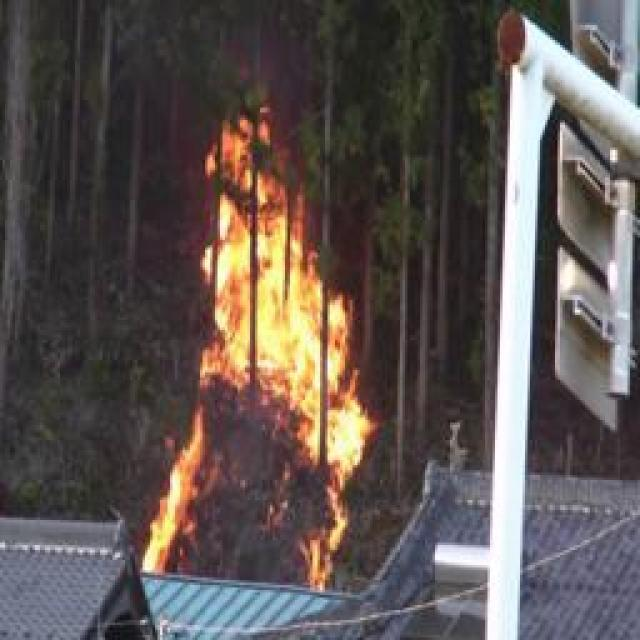Fire: (150, 135, 364, 592)
